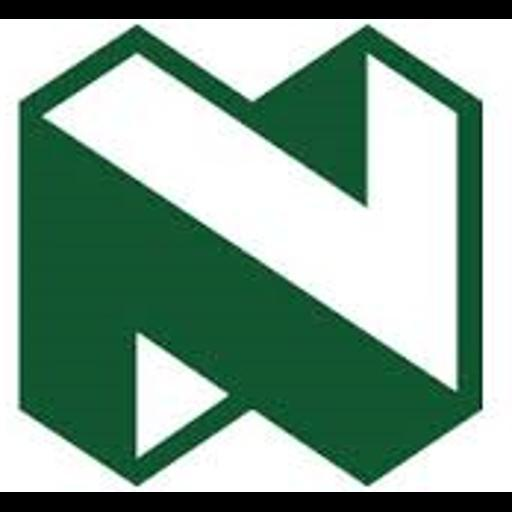NedBank Limited: (0, 19, 512, 492)
